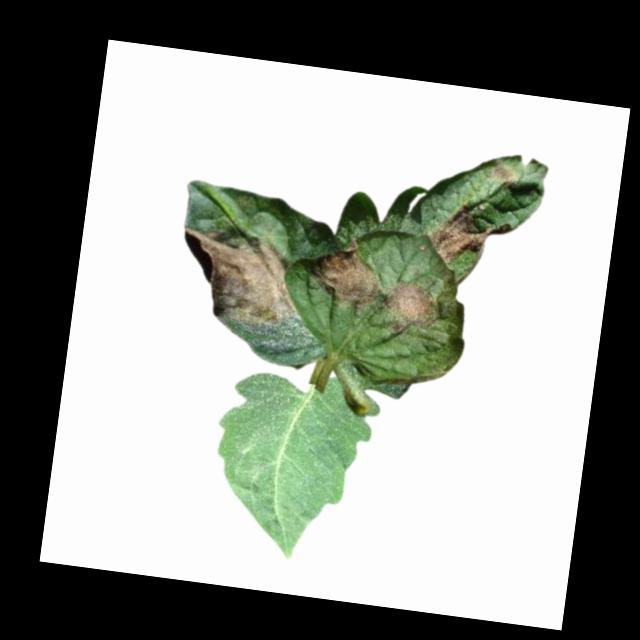Late_blight: (172, 225, 311, 331), (302, 233, 391, 320), (422, 198, 503, 270), (379, 277, 446, 341), (488, 163, 519, 185)
healthy: (201, 364, 383, 569)
